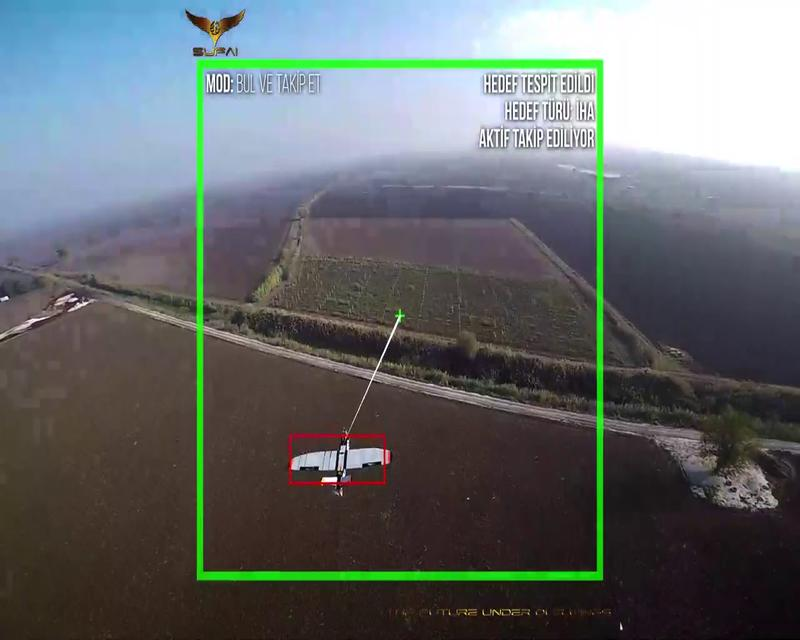UAV: (290, 437, 393, 487)
